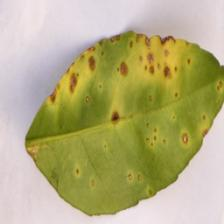canker: (44, 31, 220, 117)
